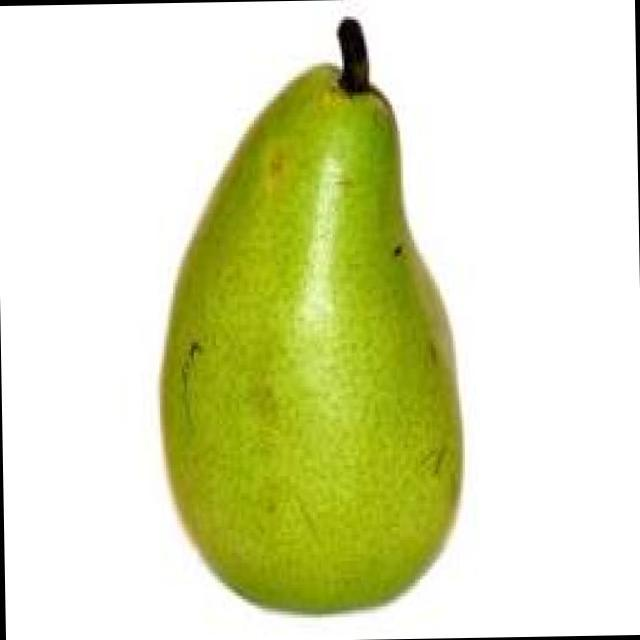Pear: (123, 0, 539, 633)
